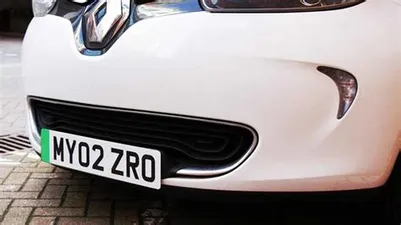number_plate: (40, 128, 164, 192)
